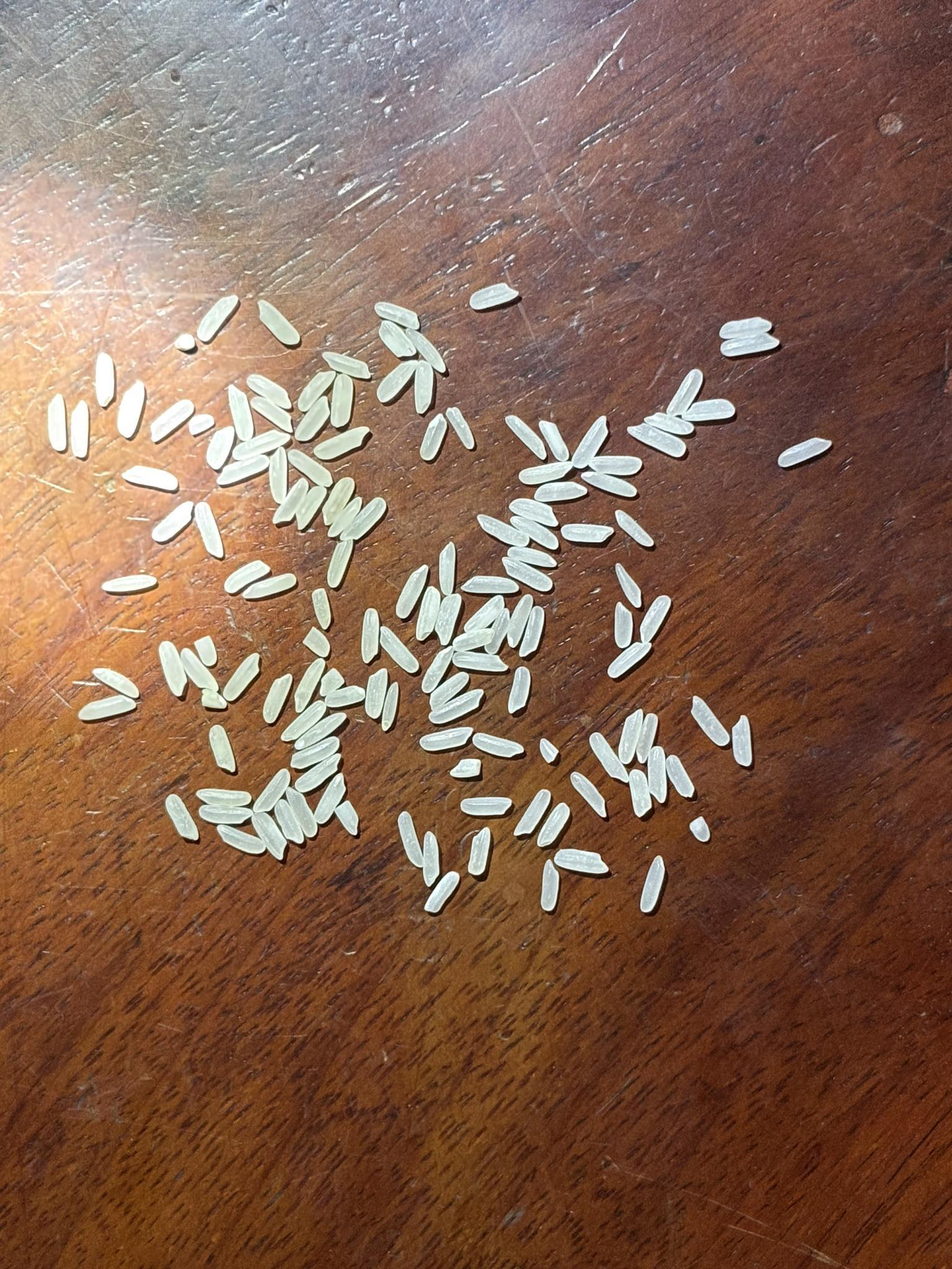Rice-th-y-nh: (628, 421, 686, 458), (196, 294, 240, 342), (149, 398, 196, 442), (257, 298, 300, 346), (690, 696, 730, 747), (342, 496, 387, 541), (571, 416, 609, 469), (261, 447, 296, 504), (379, 626, 420, 674), (221, 653, 262, 701), (151, 499, 195, 543), (394, 564, 429, 619), (294, 754, 342, 794), (505, 415, 548, 459), (430, 689, 484, 724), (406, 328, 447, 374), (280, 702, 327, 742), (314, 426, 369, 460), (193, 501, 225, 558), (179, 646, 219, 691), (287, 448, 333, 487), (233, 429, 289, 461), (272, 478, 310, 525), (163, 793, 200, 841), (245, 373, 293, 410), (666, 369, 703, 417), (116, 381, 147, 438), (511, 515, 560, 551), (298, 713, 347, 749), (296, 369, 337, 412), (377, 358, 417, 402), (293, 658, 326, 711), (77, 693, 137, 722), (514, 789, 551, 836), (241, 570, 297, 601), (313, 773, 347, 824), (502, 558, 553, 592), (321, 475, 355, 526), (589, 732, 625, 779), (157, 640, 187, 696), (225, 385, 255, 441), (253, 769, 291, 813), (294, 397, 331, 442), (478, 515, 530, 547), (571, 772, 607, 818), (223, 560, 270, 595), (216, 455, 269, 486), (607, 641, 651, 678), (413, 586, 444, 638), (326, 496, 364, 538), (553, 846, 608, 875), (778, 437, 831, 467), (638, 595, 671, 643), (250, 396, 294, 432), (536, 803, 571, 848), (261, 674, 293, 723), (614, 508, 654, 547), (464, 595, 505, 633), (421, 646, 454, 693), (506, 594, 535, 647), (125, 463, 178, 492), (253, 813, 287, 858), (285, 788, 316, 837), (324, 539, 355, 588), (294, 485, 327, 531), (428, 672, 469, 709), (396, 812, 424, 866), (583, 470, 637, 498), (509, 497, 559, 527), (290, 738, 340, 768), (424, 871, 459, 913), (93, 667, 140, 698), (377, 320, 416, 357), (640, 857, 666, 912), (205, 425, 236, 471), (722, 332, 779, 357), (216, 825, 265, 854), (435, 593, 462, 645), (196, 784, 252, 809), (323, 351, 371, 380), (208, 724, 237, 772), (664, 754, 695, 798), (539, 419, 570, 463), (729, 715, 755, 767), (588, 452, 644, 476), (374, 301, 420, 330), (419, 414, 448, 460), (330, 374, 355, 427), (274, 799, 304, 843), (519, 607, 545, 657), (519, 461, 573, 485), (614, 564, 643, 608), (473, 733, 524, 758), (469, 283, 518, 309), (419, 728, 474, 751), (102, 572, 157, 595), (69, 401, 91, 458), (646, 745, 668, 802), (627, 769, 653, 817), (199, 803, 251, 827), (446, 407, 475, 450), (46, 394, 68, 450), (645, 411, 694, 436), (684, 398, 735, 422), (619, 710, 643, 761), (453, 651, 508, 673), (94, 352, 116, 406), (412, 360, 434, 413), (635, 714, 659, 762), (507, 545, 557, 568), (533, 481, 587, 502), (507, 666, 531, 713), (468, 828, 492, 875), (364, 669, 387, 718), (437, 542, 458, 595), (360, 608, 380, 663), (463, 575, 518, 595), (719, 317, 771, 338), (562, 522, 613, 543), (486, 610, 510, 654), (453, 627, 494, 652), (461, 797, 511, 817), (380, 682, 400, 731), (422, 832, 440, 885), (325, 685, 365, 708), (541, 860, 559, 911), (613, 603, 633, 648), (302, 626, 331, 657), (311, 588, 332, 629), (335, 801, 359, 836), (194, 634, 219, 667), (319, 669, 345, 697), (187, 413, 215, 436), (450, 759, 482, 777), (690, 817, 711, 842), (201, 689, 227, 709), (540, 739, 559, 762)
